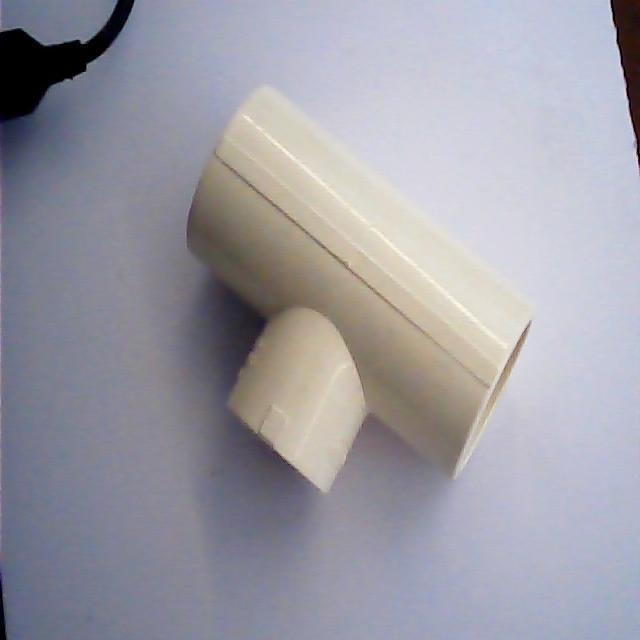T Joint: (185, 86, 537, 496)
